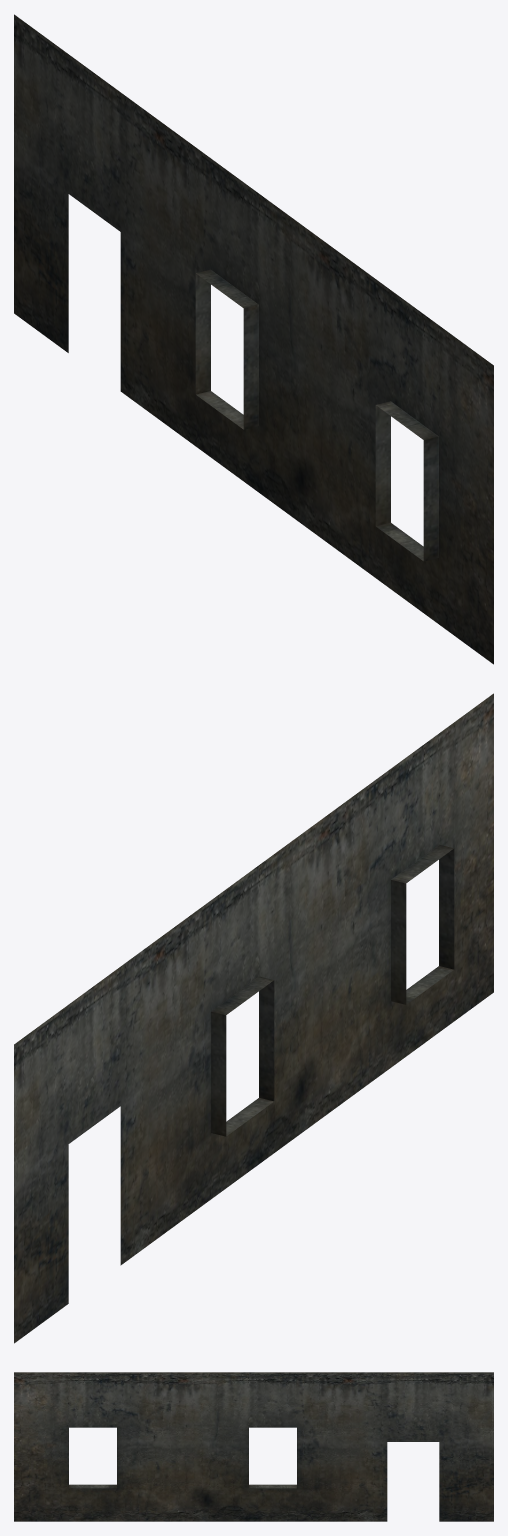
File: Wall_03.FBX
The picture shows the model from 3 angles, top to bottom: view 1: azimuth 30°, elevation 25°; view 2: azimuth 150°, elevation 25°; view 3: azimuth 270°, elevation 25°; orthographic projection. The views are drawn at different scales.
Parts seen in each view (by area): view 1: Wall_03; view 2: Wall_03; view 3: Wall_03.
Part boxes in pixels (x1,y1,x2,y2): Wall_03: [14, 14, 493, 664]; Wall_03: [14, 693, 493, 1343]; Wall_03: [14, 1372, 493, 1521].
Size of the model in its own units: 27.27 by 511 by 1487.
